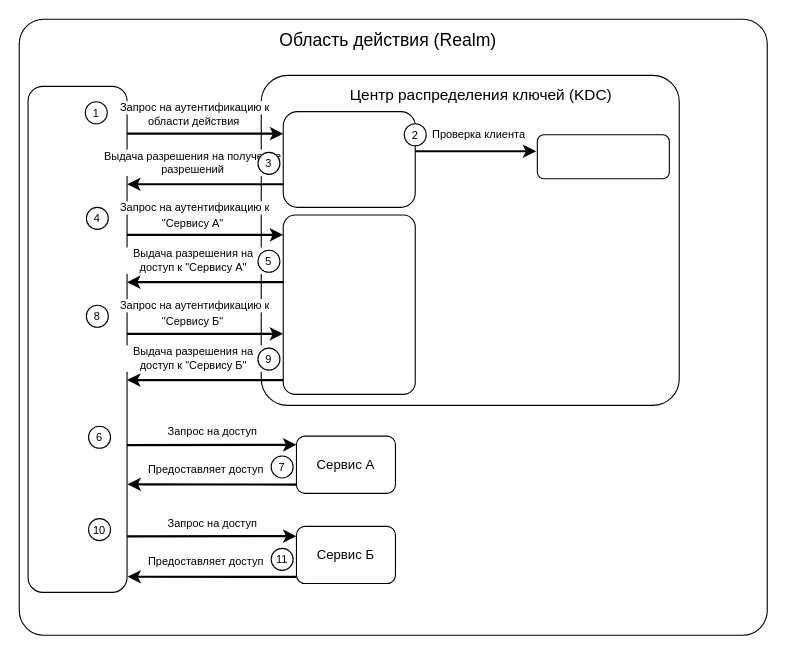
This 787x655 diagram has some shape labels left out. Here are the shapes that lost their labels. From the top down, the box of each, then its label:
(282, 111, 415, 207): Сервер аутентификации (AS)
(536, 134, 669, 179): База данных Kerberos
(282, 214, 415, 394): Сервер выдачи разрешений (TGS)
(27, 85, 127, 592): Клиент
